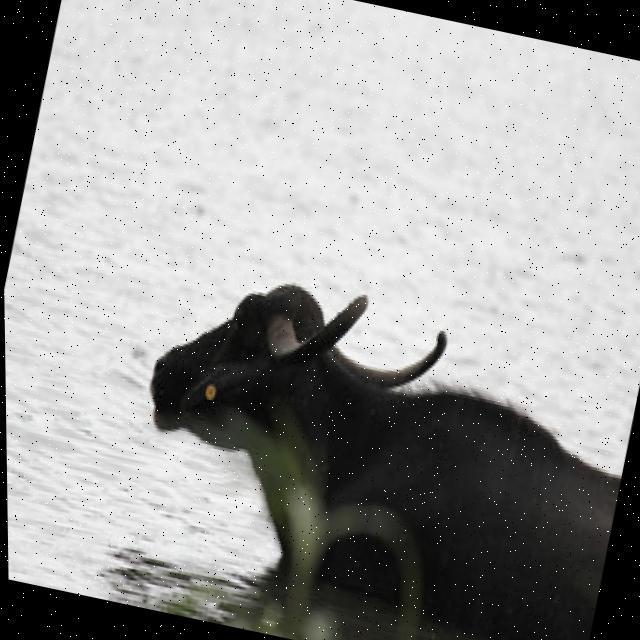Buffalo: (104, 248, 640, 640)
